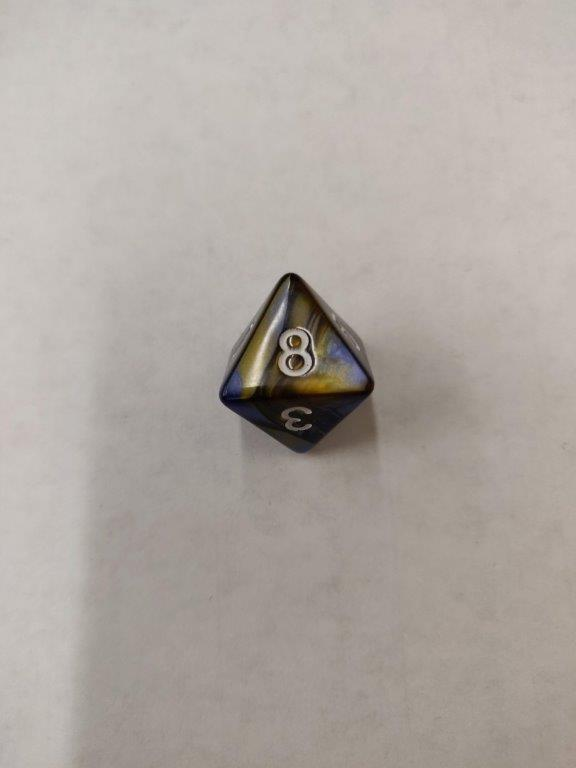d8-8: (219, 274, 375, 455)
